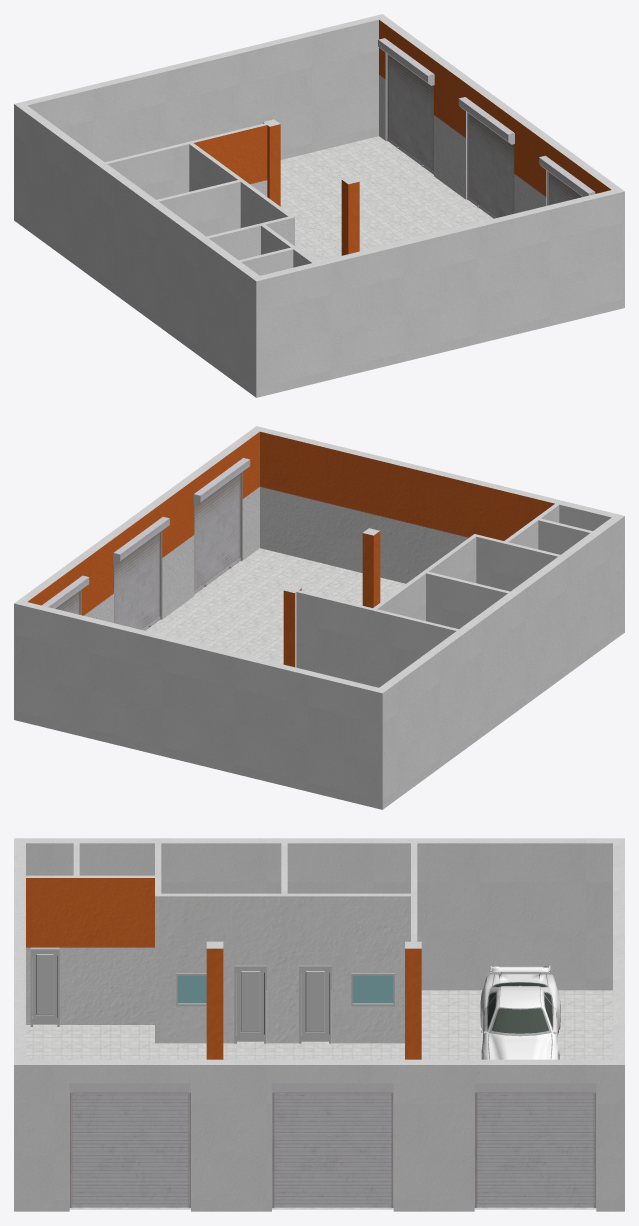
File: VROOM_Planimetry_v006.fbx
3 renders of one model, top to bottom at view 1: azimuth 30°, elevation 25°; view 2: azimuth 150°, elevation 25°; view 3: azimuth 270°, elevation 25°, orthographic. The views are drawn at different scales.
Visible parts, largest first — view 1: GEO_Office_Walls, Floor, rollershutter_window_02 .003, rollershutter_window_02 .002, rollershutter_window_02 .001; view 2: GEO_Office_Walls, Floor, rollershutter_window_02 .001, rollershutter_window_02 .002, rollershutter_window_02 .003; view 3: GEO_Office_Walls, Floor, rollershutter_window_02 .003, rollershutter_window_02 .001, rollershutter_window_02 .002, Tires, RowHomeB_WoodBeamWhite.001, RowHomeB_WoodBeamWhite.002, GEO_Windows, RowHomeB_WoodBeamWhite.003.
Boxes of the visible parts, x1,y1,x2,y2 form: GEO_Office_Walls: [14, 14, 624, 397]; Floor: [280, 136, 493, 261]; rollershutter_window_02 .003: [378, 38, 434, 174]; rollershutter_window_02 .002: [458, 97, 514, 218]; rollershutter_window_02 .001: [539, 155, 595, 205]; GEO_Office_Walls: [14, 426, 624, 809]; Floor: [145, 548, 405, 664]; rollershutter_window_02 .001: [193, 458, 250, 594]; rollershutter_window_02 .002: [113, 516, 169, 630]; rollershutter_window_02 .003: [42, 575, 89, 614]; GEO_Office_Walls: [14, 838, 624, 1211]; Floor: [26, 990, 612, 1209]; rollershutter_window_02 .003: [474, 1083, 596, 1207]; rollershutter_window_02 .001: [69, 1083, 190, 1207]; rollershutter_window_02 .002: [272, 1083, 393, 1207]; Tires: [480, 965, 560, 1059]; RowHomeB_WoodBeamWhite.001: [299, 965, 331, 1043]; RowHomeB_WoodBeamWhite.002: [234, 965, 266, 1043]; GEO_Windows: [176, 973, 394, 1006]; RowHomeB_WoodBeamWhite.003: [30, 947, 59, 1026].
Size of the model in its own units: 1324 by 401 by 1508.
Materials: 9 (6 with a texture image).
